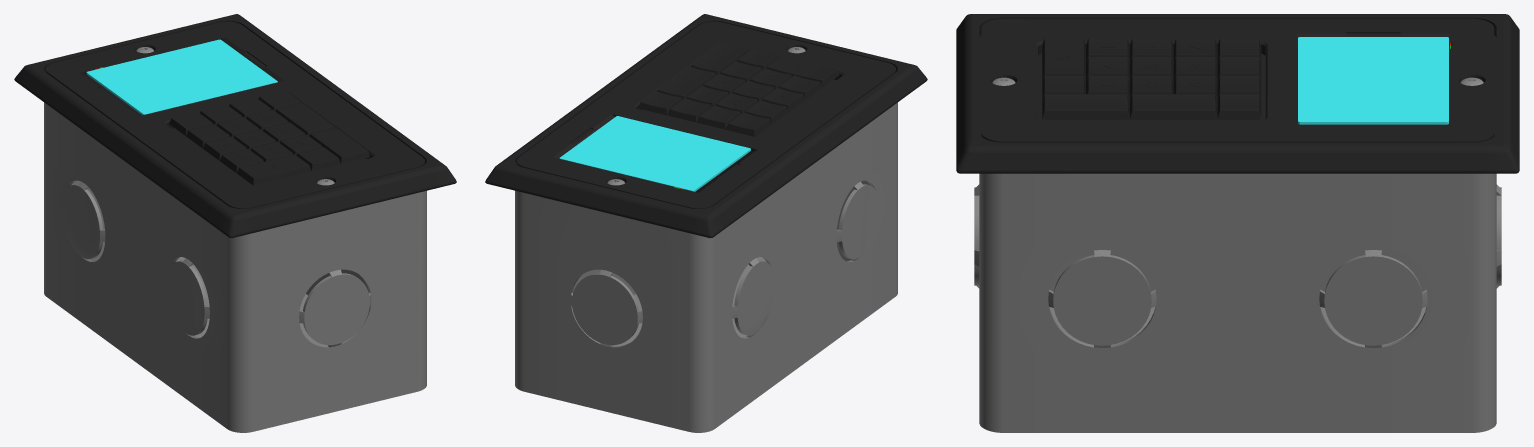
Rendered from password.fbx.
The picture shows the model from 3 angles, left to right: view 1: azimuth 30°, elevation 25°; view 2: azimuth 150°, elevation 25°; view 3: azimuth 270°, elevation 25°; orthographic projection. The views are drawn at different scales.
Parts seen in each view (by area): view 1: Caja panel, Panel domotica, Teclado, Pantalla; view 2: Caja panel, Panel domotica, Teclado, Pantalla; view 3: Caja panel, Panel domotica, Teclado, Pantalla.
Part boxes in pixels (left/top/right/bottom): Caja panel: left=44, top=102, right=426, bottom=432; Panel domotica: left=14, top=14, right=456, bottom=237; Teclado: left=169, top=90, right=369, bottom=185; Pantalla: left=86, top=39, right=277, bottom=115; Caja panel: left=515, top=102, right=897, bottom=432; Panel domotica: left=485, top=14, right=927, bottom=237; Teclado: left=638, top=41, right=839, bottom=136; Pantalla: left=559, top=116, right=750, bottom=191; Caja panel: left=974, top=173, right=1501, bottom=432; Panel domotica: left=956, top=14, right=1519, bottom=173; Teclado: left=1042, top=38, right=1261, bottom=119; Pantalla: left=1298, top=37, right=1448, bottom=125.
Size of the model in its own units: 13.86 by 13.28 by 22.86.
